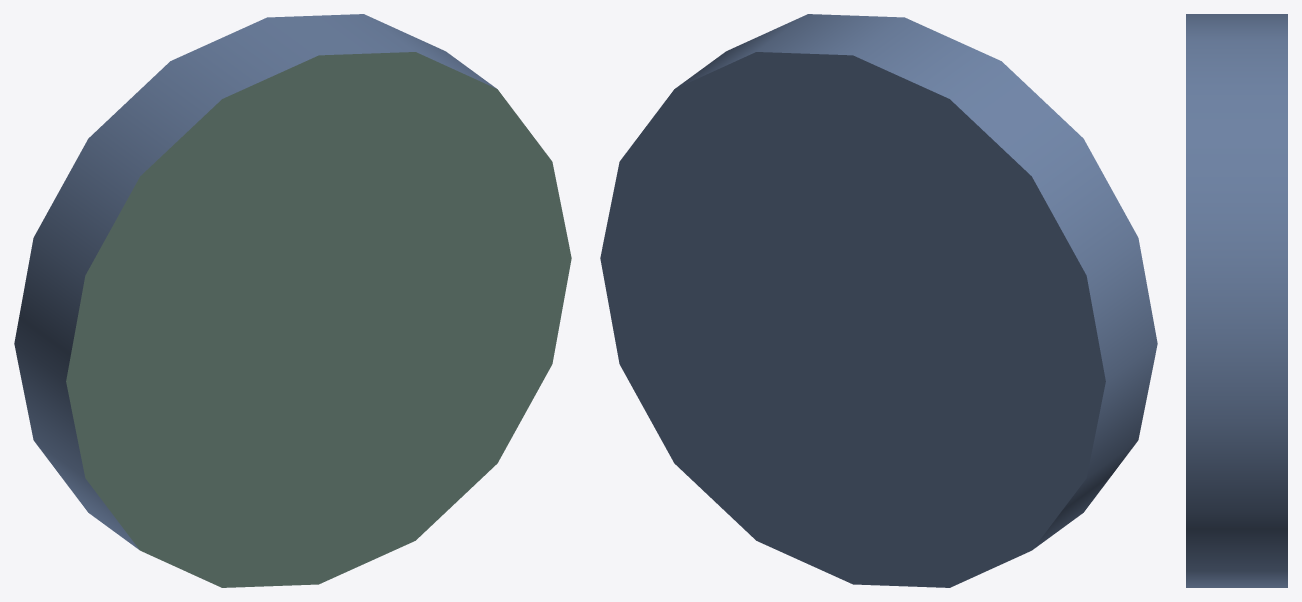
Rendered from icub_l_shoulder_1.dae.
3 views of the same model, side by side, from view 1: azimuth 30°, elevation 25°; view 2: azimuth 150°, elevation 25°; view 3: azimuth 270°, elevation 25° (orthographic).
Visible parts, largest first — view 1: l_shoulder_1_mesh; view 2: l_shoulder_1_mesh; view 3: l_shoulder_1_mesh.
Boxes of the visible parts, box(x1,y1,x2,y2) form: l_shoulder_1_mesh: box(14, 14, 571, 587); l_shoulder_1_mesh: box(600, 14, 1157, 587); l_shoulder_1_mesh: box(1186, 14, 1287, 587).
Bounding box in the file's own units: 0.062 × 0.062 × 0.011.
